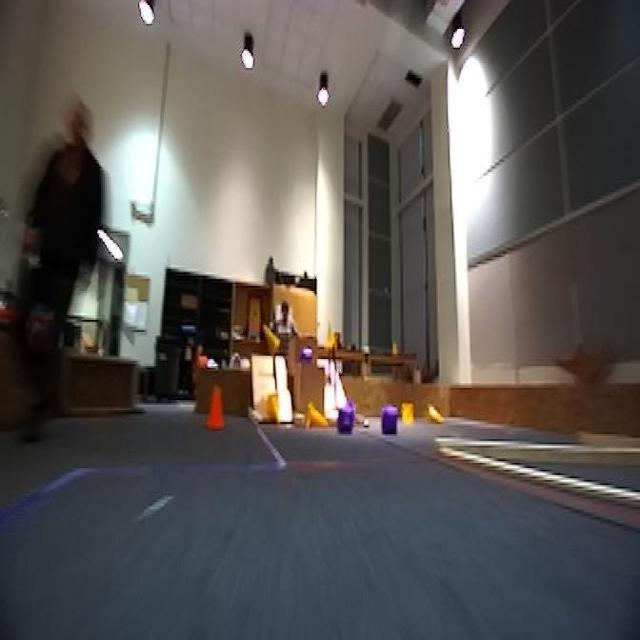frc_cone: (260, 320, 287, 356), (304, 400, 328, 434), (264, 392, 284, 426), (323, 323, 339, 358), (399, 400, 414, 436), (425, 403, 445, 429)
frc_cube: (379, 404, 401, 439), (336, 405, 352, 436), (298, 340, 315, 366)
